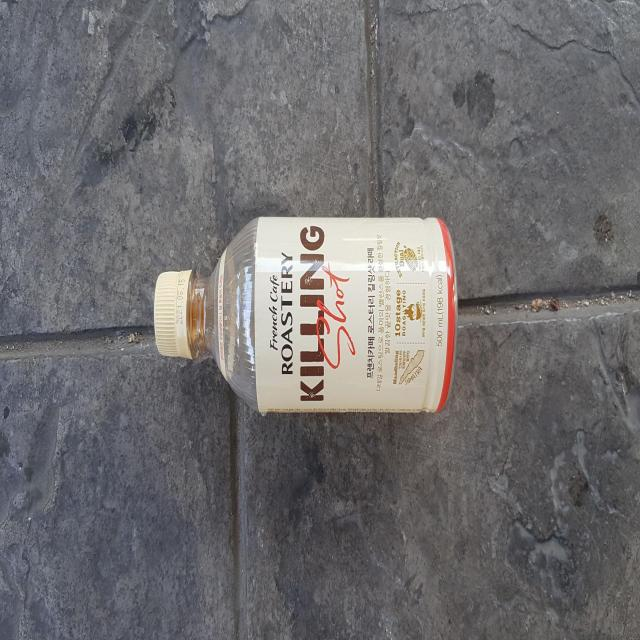plastic: (154, 216, 458, 412)
